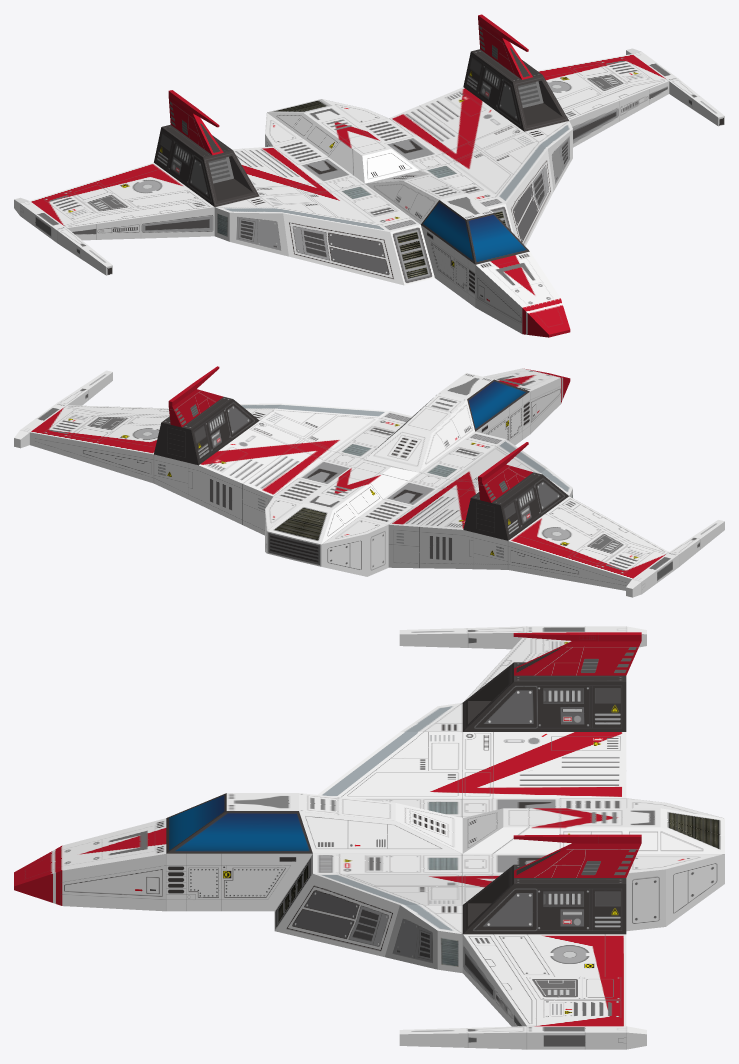
3 renders of one model, top to bottom at view 1: azimuth 30°, elevation 25°; view 2: azimuth 150°, elevation 25°; view 3: azimuth 270°, elevation 25°, orthographic. The views are drawn at different scales.
Visible parts, largest first — view 1: polySurface8; view 2: polySurface8; view 3: polySurface8.
Part boxes in pixels (x1=…): polySurface8: x1=14, y1=14, x2=724, y2=337; polySurface8: x1=14, y1=366, x2=724, y2=597; polySurface8: x1=14, y1=626, x2=724, y2=1049.
Bounding box in the file's own units: 1445 × 263 × 1069.
